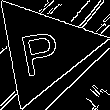P_N: (20, 21, 67, 77)
